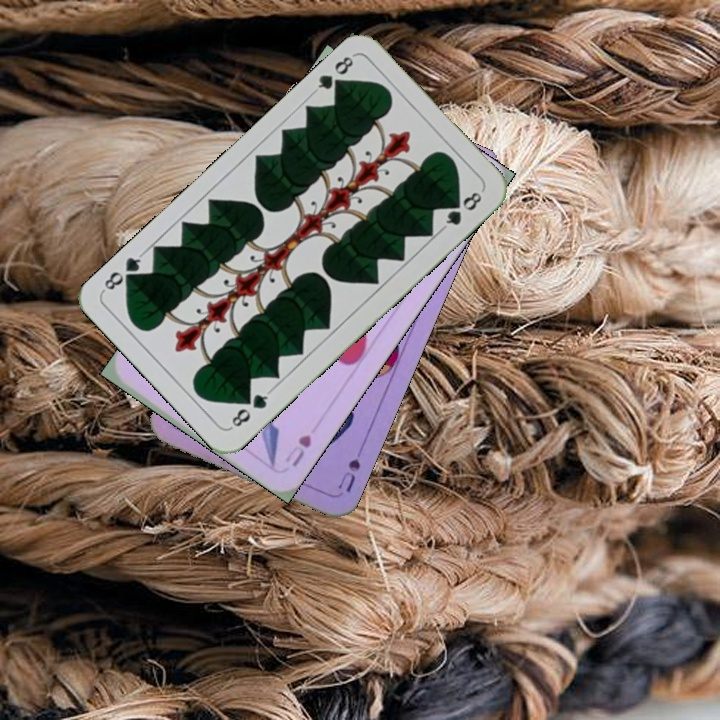G8: (226, 386, 273, 431), (309, 51, 356, 96)
HU: (280, 430, 314, 470)
SU: (333, 438, 366, 495)
